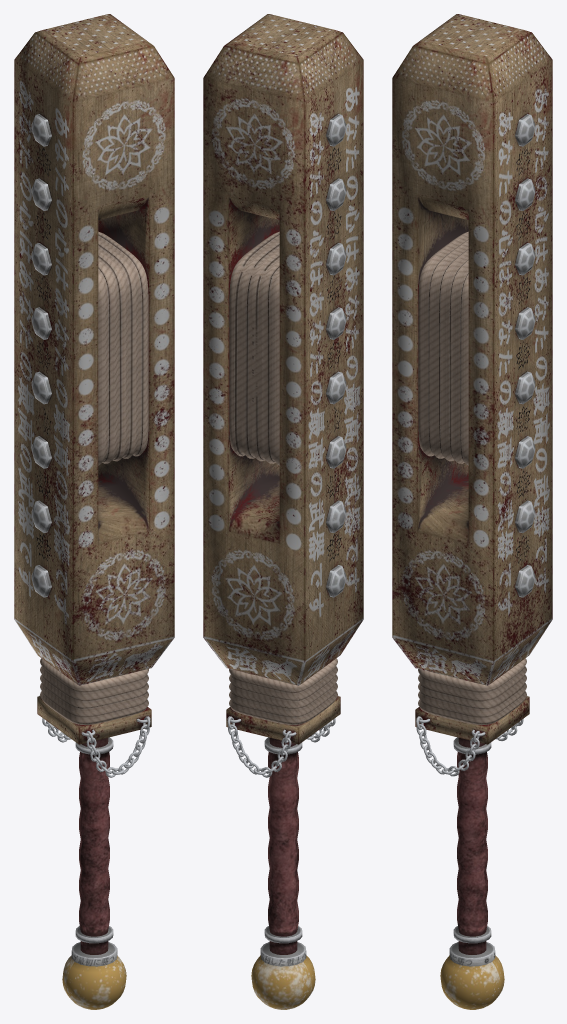
File: weapon.glb
3 views of the same model, side by side, from view 1: azimuth 30°, elevation 25°; view 2: azimuth 150°, elevation 25°; view 3: azimuth 330°, elevation 25° (orthographic).
Parts seen in each view (by area): view 1: Club (×5); view 2: Club (×5); view 3: Club (×5).
Part boxes in pixels (bbox=[...]): Club (×5): bbox=[14, 14, 174, 1009]; Club (×5): bbox=[203, 14, 363, 1009]; Club (×5): bbox=[392, 14, 552, 1009].
Size of the model in its own units: 0.2525 by 2 by 0.2288.
5 materials, 5 textured.
